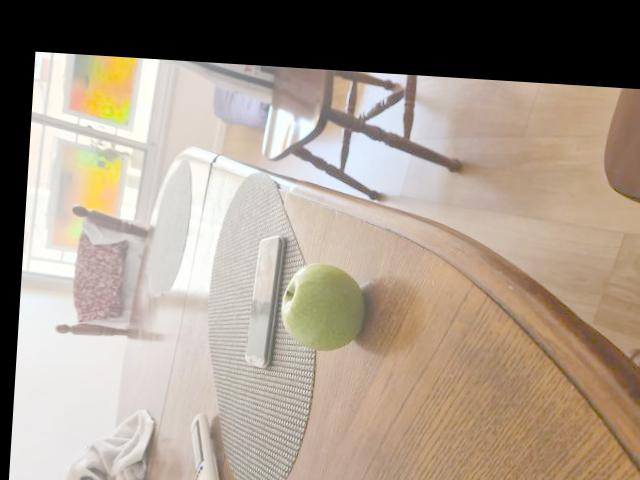apple: (280, 264, 368, 355)
